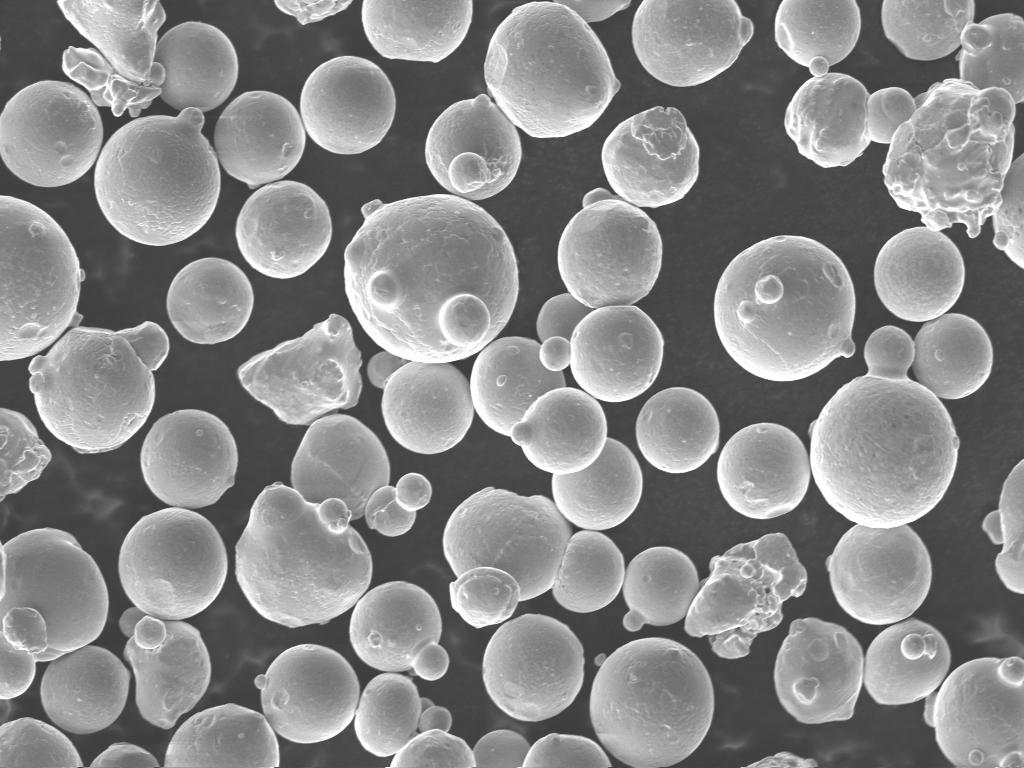Powder: (810, 326, 958, 528), (344, 194, 518, 363), (442, 488, 626, 628), (882, 78, 1016, 237), (714, 236, 856, 380), (236, 484, 372, 627), (484, 2, 620, 138), (30, 322, 168, 453), (0, 530, 108, 697), (94, 108, 220, 245), (292, 414, 430, 535), (590, 638, 714, 766), (684, 534, 806, 657), (0, 196, 84, 359), (238, 314, 362, 424), (58, 0, 166, 118), (558, 188, 662, 308), (784, 72, 914, 168), (118, 508, 228, 620), (540, 308, 664, 402), (0, 80, 104, 186), (482, 614, 584, 722), (924, 656, 1024, 766), (120, 608, 210, 727), (368, 352, 474, 453), (826, 524, 932, 624), (254, 644, 360, 743), (632, 0, 752, 86), (426, 94, 522, 200), (602, 106, 700, 207), (350, 582, 450, 680), (140, 410, 238, 508), (470, 336, 566, 435), (774, 618, 864, 723), (300, 56, 396, 154), (236, 180, 332, 278), (214, 90, 306, 187), (718, 422, 810, 518), (874, 228, 964, 322), (552, 438, 642, 530), (510, 388, 606, 474), (40, 646, 130, 734), (166, 258, 254, 344), (154, 22, 238, 112), (864, 618, 950, 705), (164, 704, 280, 767), (636, 388, 720, 472), (912, 314, 994, 398), (622, 546, 700, 632), (364, 0, 472, 61), (774, 0, 860, 76), (960, 14, 1024, 102), (354, 672, 420, 756), (882, 0, 974, 59), (984, 460, 1024, 593), (0, 408, 52, 499), (0, 718, 82, 768), (994, 154, 1024, 268), (390, 730, 476, 768), (522, 734, 612, 768), (536, 292, 592, 341), (474, 730, 530, 768), (274, 1, 352, 24), (90, 742, 158, 768), (554, 1, 630, 22), (746, 752, 818, 767), (418, 706, 452, 732), (420, 696, 434, 711)
